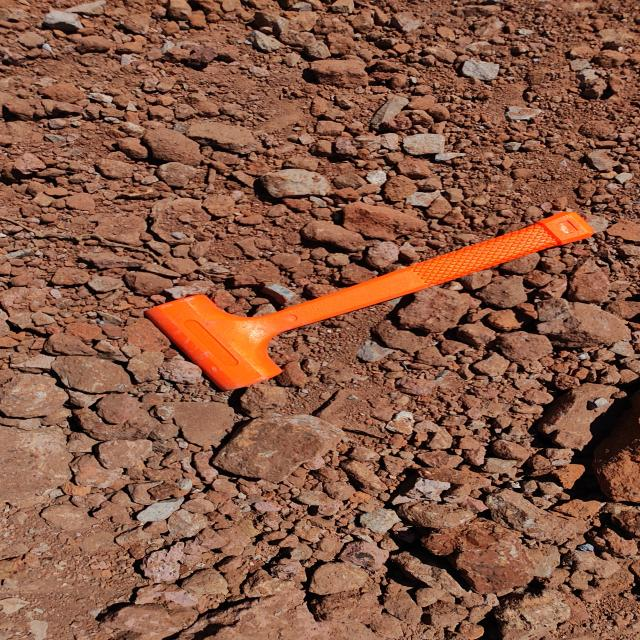Orange_hammer: (142, 210, 596, 392)
rock: (146, 121, 222, 172), (259, 165, 338, 202)
